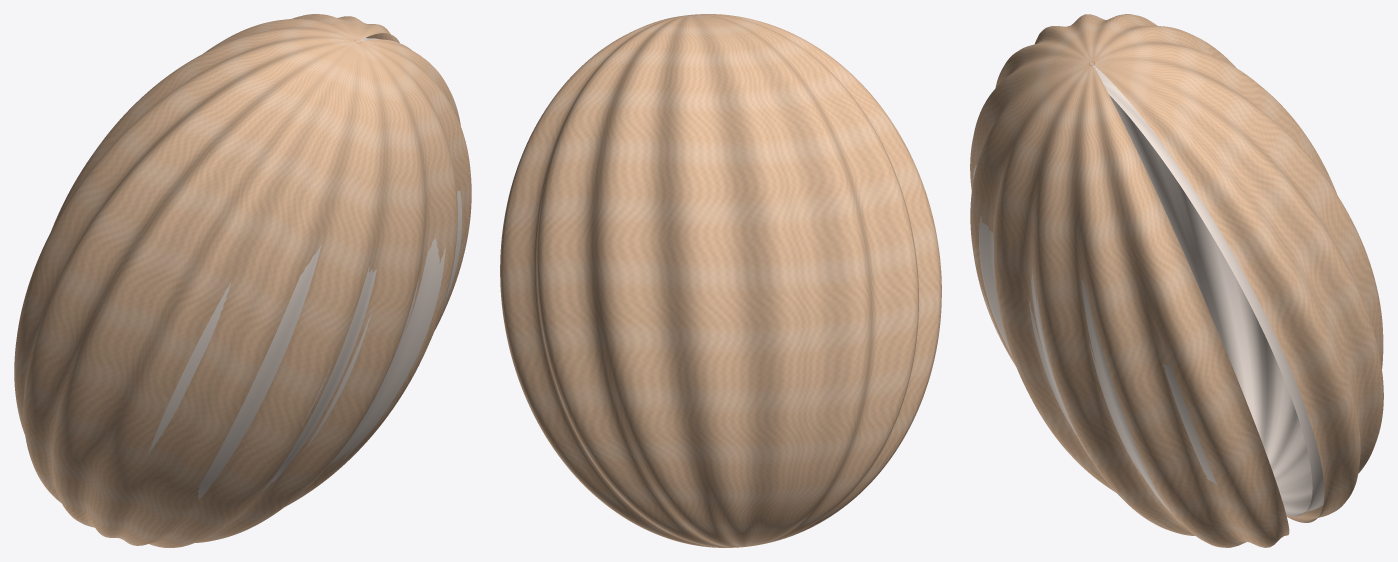
The model's file is harp-shell.glb.
The picture shows the model from 3 angles, left to right: view 1: azimuth 30°, elevation 25°; view 2: azimuth 150°, elevation 25°; view 3: azimuth 270°, elevation 25°; orthographic projection. The views are drawn at different scales.
Visible parts, largest first — view 1: harp-shell.001; view 2: harp-shell.001; view 3: harp-shell.001.
Part boxes in pixels (x1=…): harp-shell.001: x1=14, y1=14, x2=471, y2=547; harp-shell.001: x1=500, y1=14, x2=941, y2=547; harp-shell.001: x1=970, y1=14, x2=1383, y2=547.
Bounding box in the file's own units: 1.65 × 1.89 × 1.35.
Materials: 2 (1 with a texture image).
